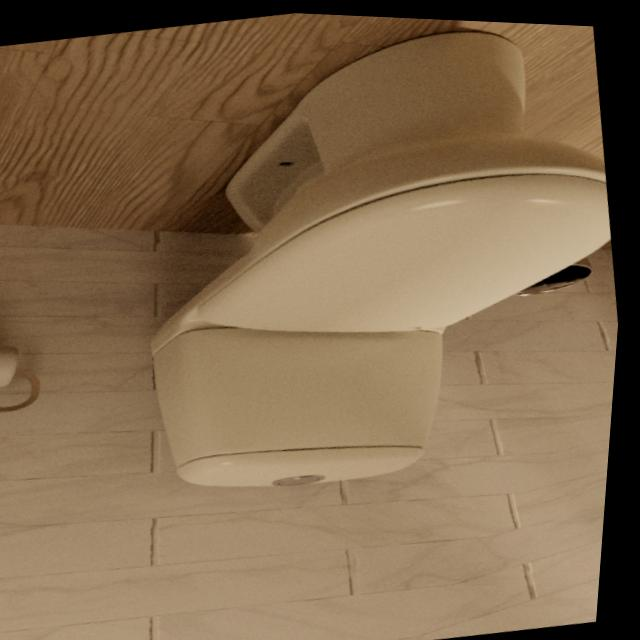toilet: (103, 5, 640, 515)
